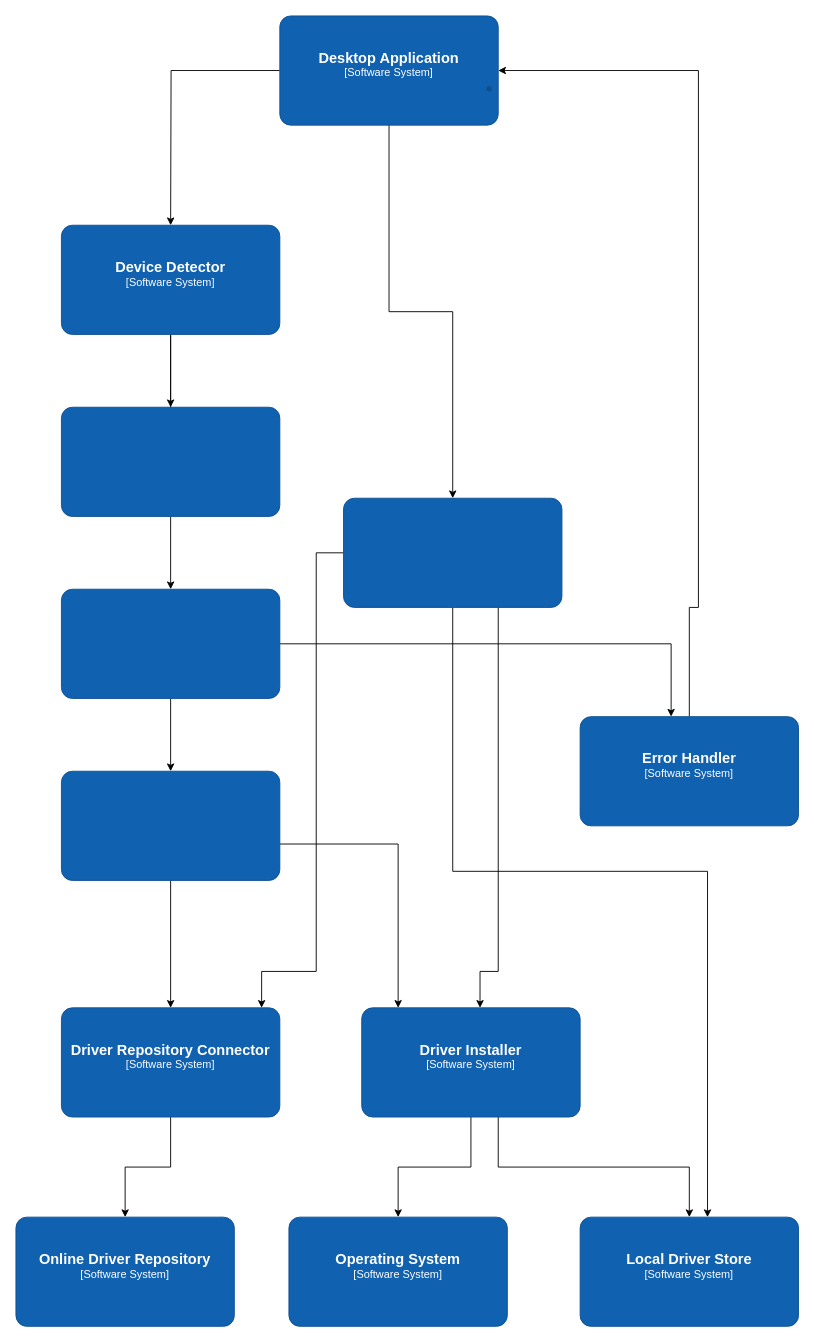
This 814x1342 diagram has some shape labels left out. The centre of each missing label's shape, as x and y in pixels:
"Compatibility Checker [Software System]" goes at (170,643).
"Driver Downloader [Software System]" goes at (170,825).
"Driver Searcher [Software System]" goes at (170,461).
"Driver Updater [Software System]" goes at (452,552).
